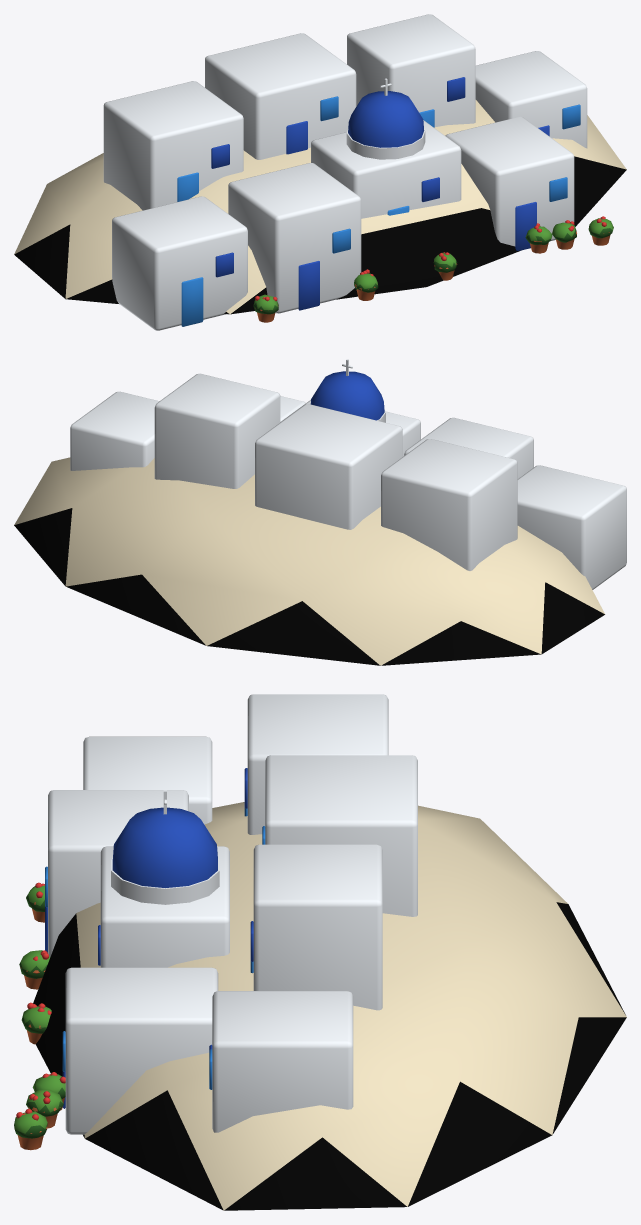
The model's file is WhiteVillage.fbx.
3 renders of one model, top to bottom at view 1: azimuth 30°, elevation 25°; view 2: azimuth 150°, elevation 25°; view 3: azimuth 270°, elevation 25°, orthographic. The views are drawn at different scales.
Parts seen in each view (by area): view 1: WhiteVillage; view 2: WhiteVillage; view 3: WhiteVillage.
Part boxes in pixels (x1,y1,x2,y2): WhiteVillage: [14, 14, 626, 330]; WhiteVillage: [14, 359, 626, 665]; WhiteVillage: [14, 694, 626, 1210].
Size of the model in its own units: 15.4 by 4.5 by 10.44.
1 material, 1 textured.
